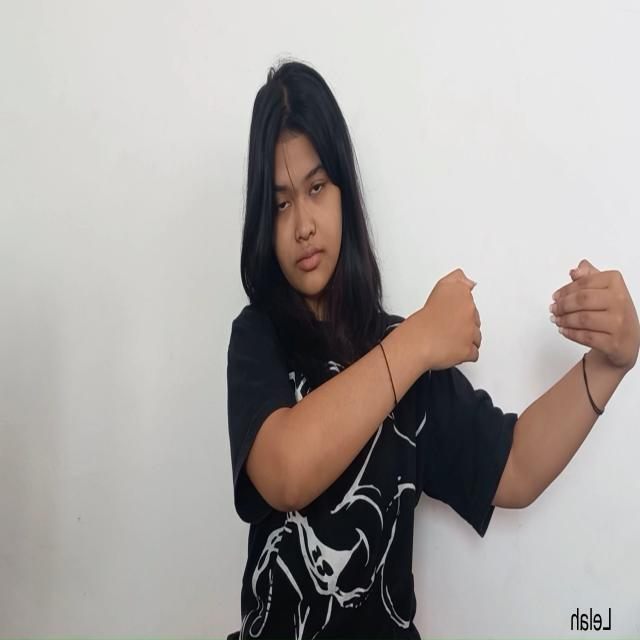Lelah -BISINDO-: (413, 258, 640, 381)
